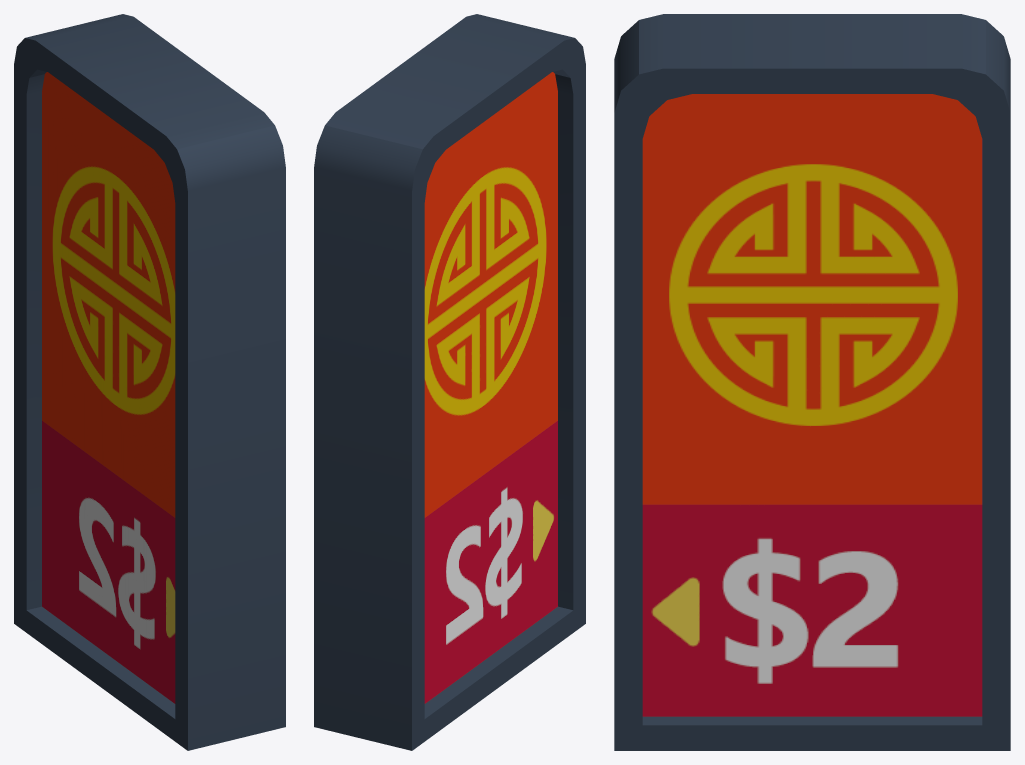
The model's file is adboard_FriedRice2_geo.fbx.
3 views of the same model, side by side, from view 1: azimuth 30°, elevation 25°; view 2: azimuth 150°, elevation 25°; view 3: azimuth 270°, elevation 25° (orthographic). The views are drawn at different scales.
Visible parts, largest first — view 1: adboard_FriedRice2_geo; view 2: adboard_FriedRice2_geo; view 3: adboard_FriedRice2_geo.
Boxes of the visible parts, x1=… form: adboard_FriedRice2_geo: x1=14, y1=14, x2=285, y2=750; adboard_FriedRice2_geo: x1=314, y1=14, x2=585, y2=750; adboard_FriedRice2_geo: x1=614, y1=14, x2=1010, y2=750.
Bounding box in the file's own units: 0.2497 × 0.7668 × 1.46.
